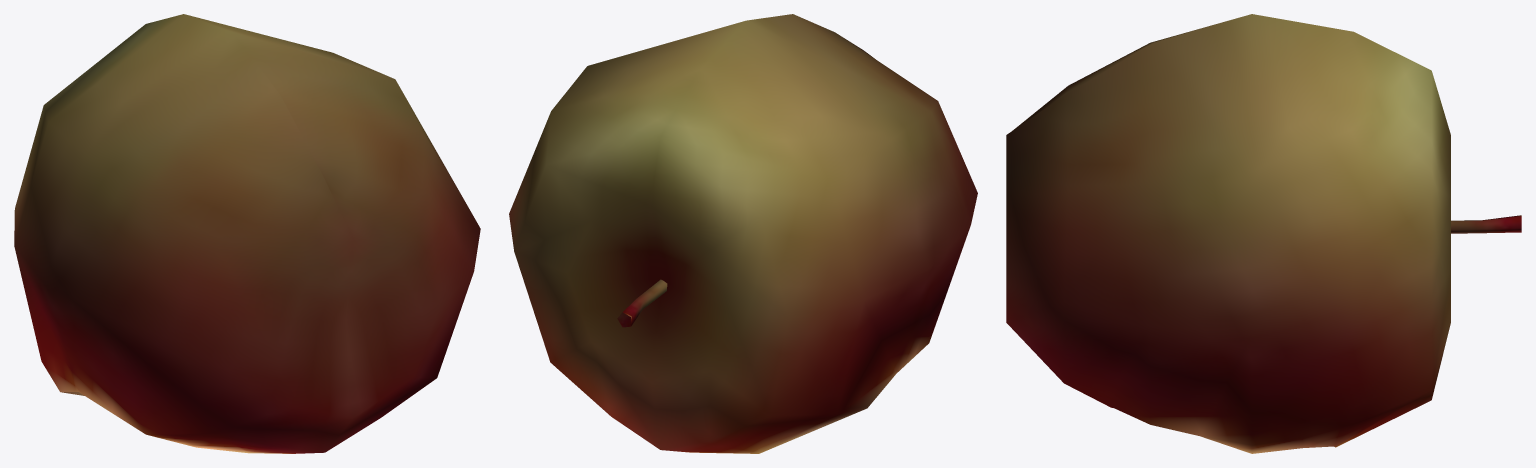
File: apple_high.fbx
3 views of the same model, side by side, from view 1: azimuth 30°, elevation 25°; view 2: azimuth 150°, elevation 25°; view 3: azimuth 270°, elevation 25° (orthographic). The views are drawn at different scales.
Visible parts, largest first — view 1: apple; view 2: apple, stalk; view 3: apple, stalk.
Part boxes in pixels (bbox=[...]): apple: bbox=[14, 14, 480, 453]; apple: bbox=[509, 14, 977, 453]; stalk: bbox=[617, 279, 667, 327]; apple: bbox=[1006, 14, 1450, 453]; stalk: bbox=[1451, 215, 1521, 233].
Bounding box in the file's own units: 41.41 × 39.39 × 44.86.
1 material, 1 textured.
